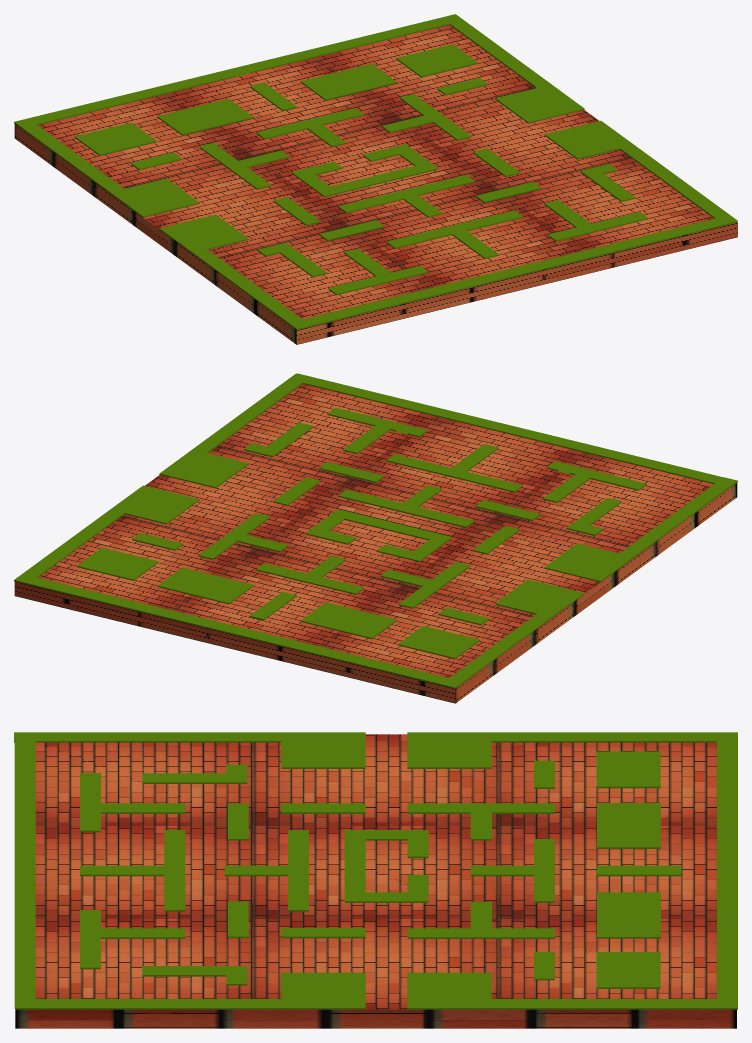
The model's file is map 1.1.fbx.
3 renders of one model, top to bottom at view 1: azimuth 30°, elevation 25°; view 2: azimuth 150°, elevation 25°; view 3: azimuth 270°, elevation 25°, orthographic. The views are drawn at different scales.
Parts seen in each view (by area): view 1: dasar, Plane.069, Plane.122, Plane.012, Plane.009, Plane.011, Plane.008, Plane.024, Plane.010, Plane.123, Plane.048, Plane.007 (+21 smaller); view 2: dasar, Plane.069, Plane.122, Plane.009, Plane.011, Plane.012, Plane.008, Plane.024, Plane.010, Plane.123, Plane.048, Plane.103 (+20 smaller); view 3: dasar, Plane.069, Plane.122, Plane.009, Plane.011, Plane.012, Plane.008, Plane.010, Plane.048, Plane.024, Plane.123, Plane.042 (+30 smaller).
Part boxes in pixels (bbox=[...]): dasar: bbox=[14, 25, 737, 344]; Plane.069: bbox=[14, 14, 463, 128]; Plane.122: bbox=[297, 218, 737, 328]; Plane.012: bbox=[110, 178, 199, 217]; Plane.009: bbox=[544, 120, 633, 159]; Plane.011: bbox=[159, 214, 248, 253]; Plane.008: bbox=[300, 64, 396, 100]; Plane.024: bbox=[157, 99, 253, 135]; Plane.010: bbox=[495, 88, 584, 123]; Plane.123: bbox=[192, 249, 311, 329]; Plane.048: bbox=[620, 145, 737, 223]; Plane.007: bbox=[74, 122, 156, 155]; dasar: bbox=[14, 384, 737, 703]; Plane.069: bbox=[14, 574, 463, 688]; Plane.122: bbox=[291, 373, 722, 484]; Plane.009: bbox=[159, 449, 248, 488]; Plane.011: bbox=[544, 543, 633, 582]; Plane.012: bbox=[495, 579, 584, 618]; Plane.008: bbox=[157, 567, 253, 604]; Plane.024: bbox=[301, 602, 396, 639]; Plane.010: bbox=[119, 485, 199, 524]; Plane.123: bbox=[620, 477, 737, 557]; Plane.048: bbox=[192, 373, 309, 452]; Plane.103: bbox=[77, 547, 158, 580]; dasar: bbox=[15, 734, 736, 1028]; Plane.069: bbox=[717, 732, 737, 1009]; Plane.122: bbox=[14, 741, 35, 1008]; Plane.009: bbox=[281, 972, 365, 1009]; Plane.011: bbox=[281, 732, 365, 768]; Plane.012: bbox=[407, 732, 491, 768]; Plane.008: bbox=[597, 892, 660, 938]; Plane.010: bbox=[407, 972, 491, 1009]; Plane.048: bbox=[16, 999, 299, 1009]; Plane.024: bbox=[597, 803, 660, 848]; Plane.123: bbox=[14, 732, 281, 742]; Plane.042: bbox=[470, 999, 729, 1009].
Size of the model in its own units: 2802 by 99.15 by 3110.
Materials: 2 (1 with a texture image).
